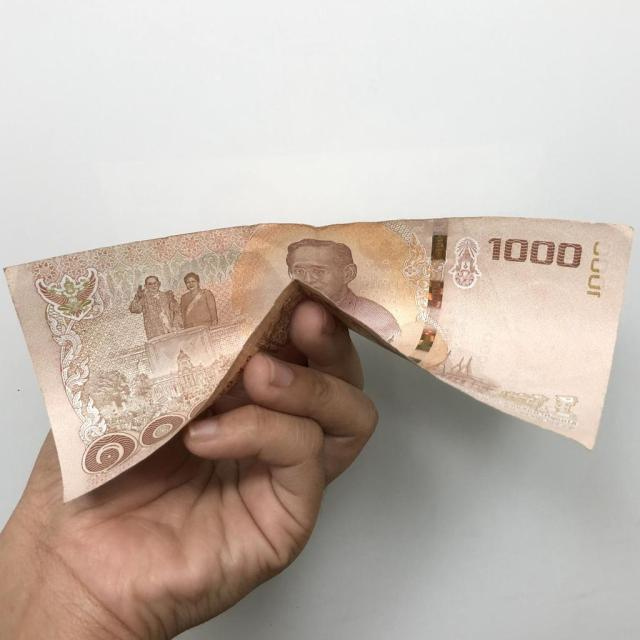THAI1000: (3, 218, 634, 503)
